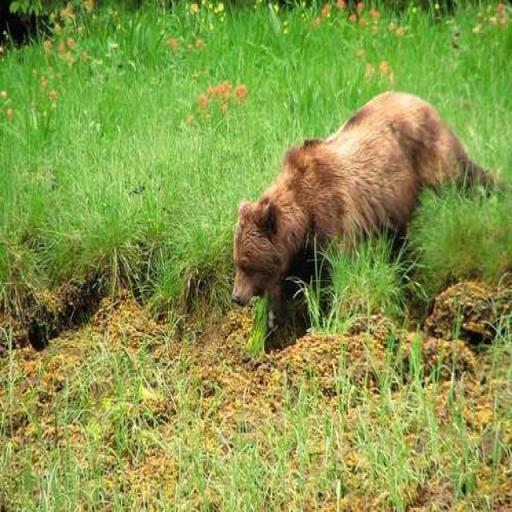Bear: (230, 89, 512, 344)
